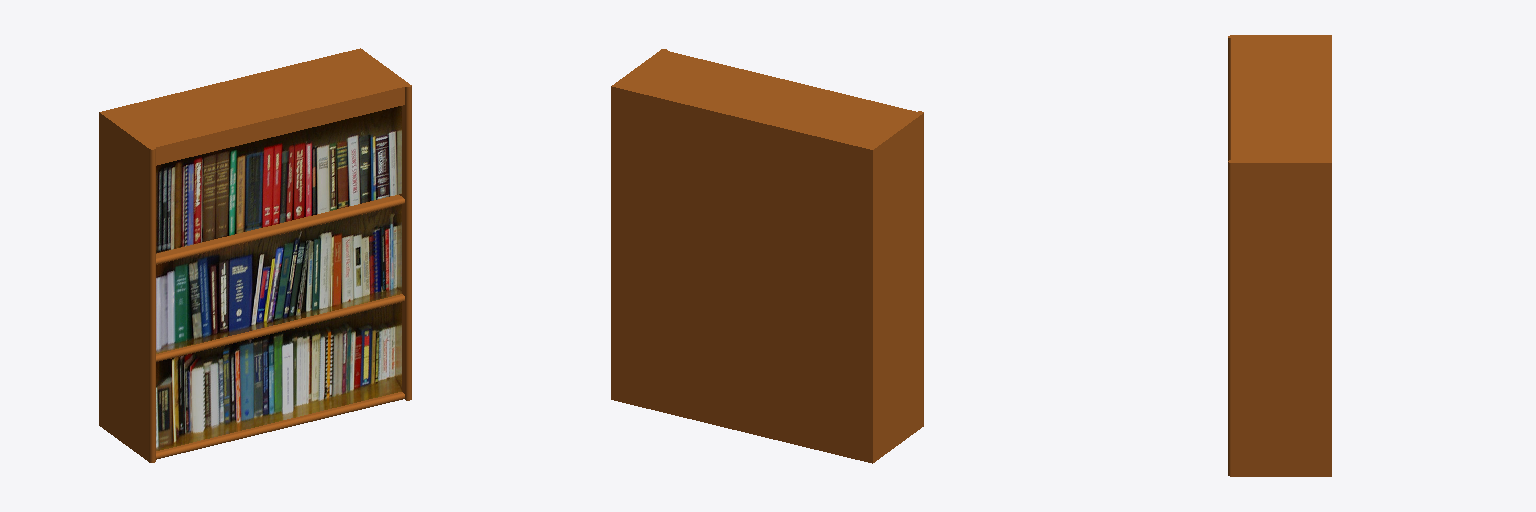
3 views of the same model, side by side, from view 1: azimuth 30°, elevation 25°; view 2: azimuth 150°, elevation 25°; view 3: azimuth 270°, elevation 25° (orthographic).
Visible parts, largest first — view 1: Mesh4_Group4_Group1_Model, Mesh5_Group5_Group1_Model, Mesh1_Group2_Group1_Model, Mesh9_Estante___Lateral2_Group1_Model, Mesh3_Group3_Group1_Model, Mesh8_Estante___Lateral1_Group1_Model, Mesh10_Estante___Prateleira3_Group1_Model, Mesh7_Estante___Prateleira2_Group1_Model, Mesh6_Estante___Prateleira1_Group1_Model; view 2: Mesh2_box_Group1_Model, Mesh9_Estante___Lateral2_Group1_Model, Mesh3_Group3_Group1_Model, Mesh8_Estante___Lateral1_Group1_Model; view 3: Mesh8_Estante___Lateral1_Group1_Model, Mesh3_Group3_Group1_Model, Mesh9_Estante___Lateral2_Group1_Model.
Part boxes in pixels (x1,y1,x2,y2): Mesh4_Group4_Group1_Model: (156, 302, 401, 450); Mesh5_Group5_Group1_Model: (156, 205, 401, 353); Mesh1_Group2_Group1_Model: (156, 106, 401, 253); Mesh9_Estante___Lateral2_Group1_Model: (99, 111, 155, 462); Mesh3_Group3_Group1_Model: (107, 51, 404, 165); Mesh8_Estante___Lateral1_Group1_Model: (356, 48, 411, 400); Mesh10_Estante___Prateleira3_Group1_Model: (156, 195, 404, 264); Mesh7_Estante___Prateleira2_Group1_Model: (156, 294, 404, 361); Mesh6_Estante___Prateleira1_Group1_Model: (156, 392, 404, 459); Mesh2_box_Group1_Model: (617, 87, 867, 461); Mesh9_Estante___Lateral2_Group1_Model: (867, 111, 923, 463); Mesh3_Group3_Group1_Model: (619, 51, 916, 147); Mesh8_Estante___Lateral1_Group1_Model: (611, 49, 667, 400); Mesh8_Estante___Lateral1_Group1_Model: (1228, 160, 1331, 476); Mesh3_Group3_Group1_Model: (1231, 38, 1328, 159); Mesh9_Estante___Lateral2_Group1_Model: (1228, 35, 1331, 160).
Size of the model in its own units: 59.06 by 67.59 by 20.34.
Materials: 4 (1 with a texture image).